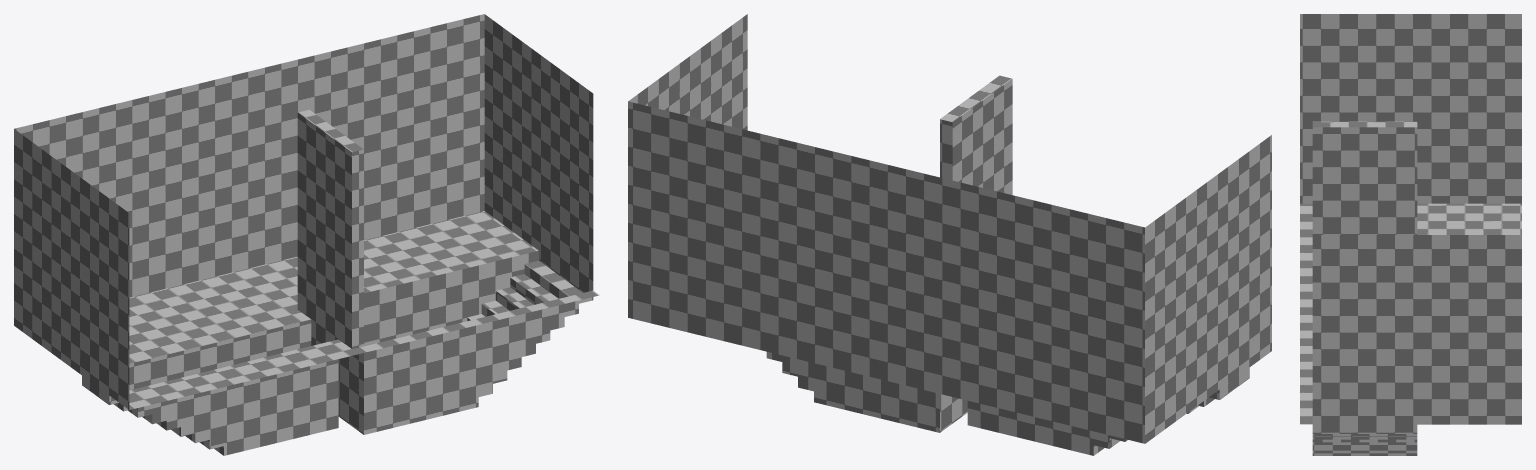
The model's file is SaltoDeLatigo.obj.
3 renders of one model, left to right at view 1: azimuth 30°, elevation 25°; view 2: azimuth 150°, elevation 25°; view 3: azimuth 270°, elevation 25°, orthographic. The views are drawn at different scales.
Visible parts, largest first — view 1: Zona_del_salto_de_latigo; view 2: Zona_del_salto_de_latigo; view 3: Zona_del_salto_de_latigo.
Part boxes in pixels (x1,y1,x2,y2): Zona_del_salto_de_latigo: (14,14,599,455); Zona_del_salto_de_latigo: (628,14,1271,455); Zona_del_salto_de_latigo: (1300,14,1521,455).
Bounding box in the file's own units: 50 × 29 × 21.22.
